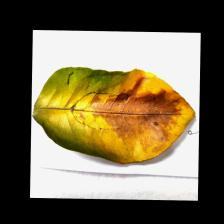canker: (72, 82, 192, 150)
